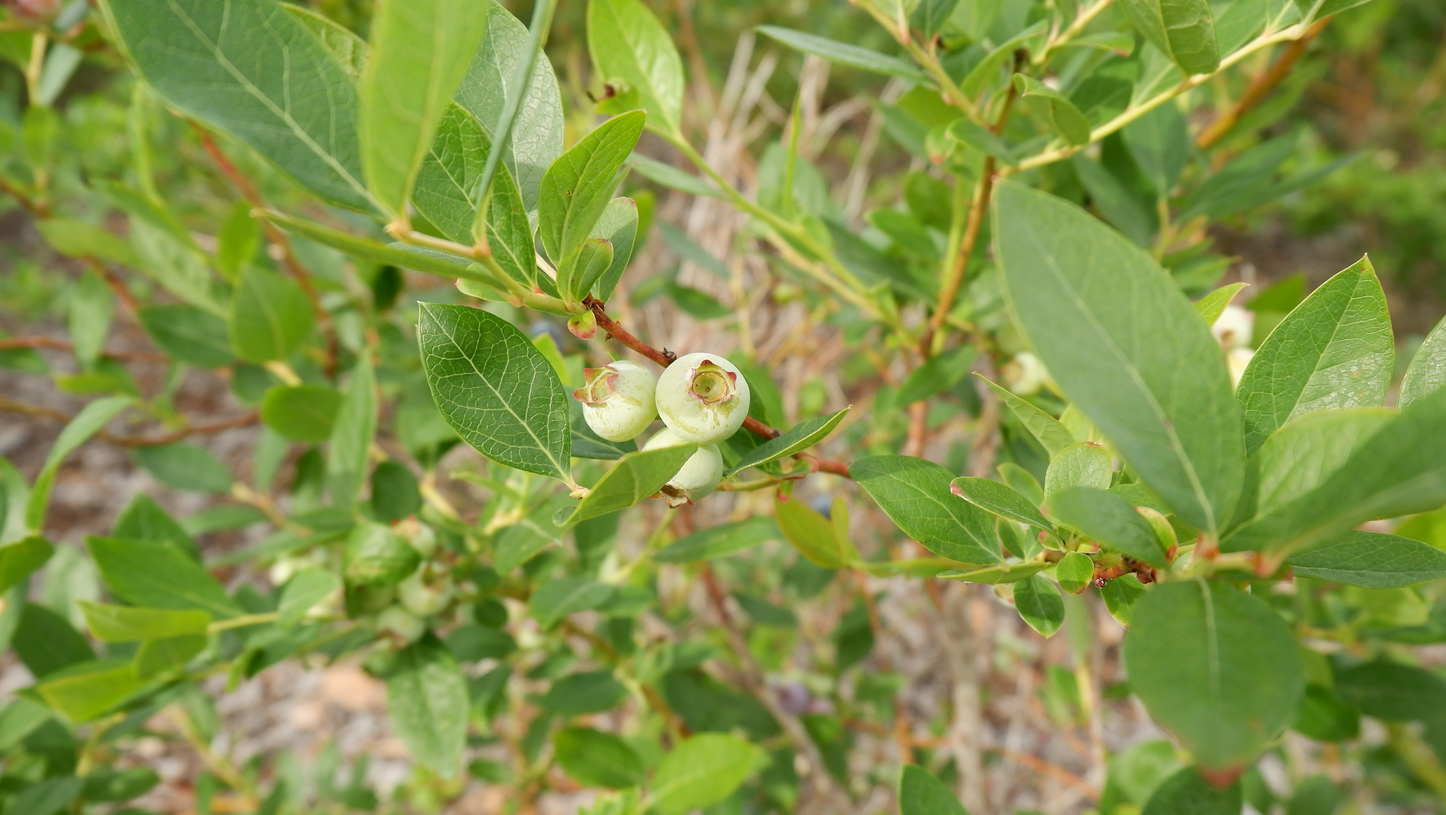Immature: (655, 353, 750, 444), (572, 360, 658, 442), (641, 427, 723, 508)
